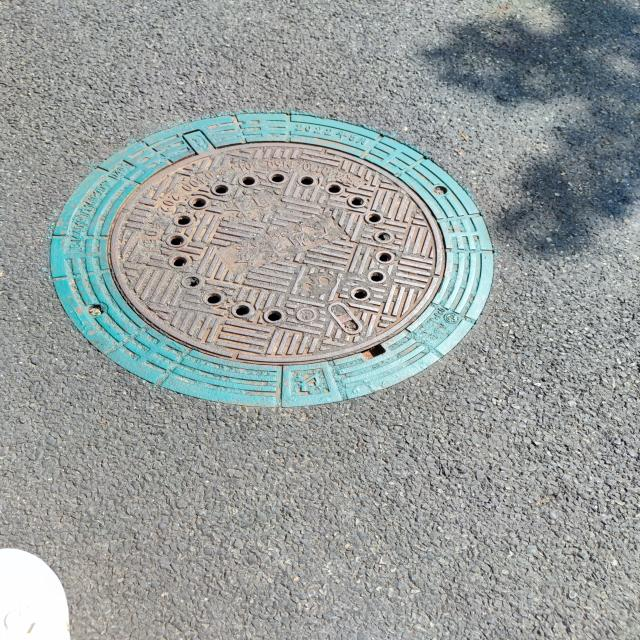Good: (46, 109, 500, 414)
